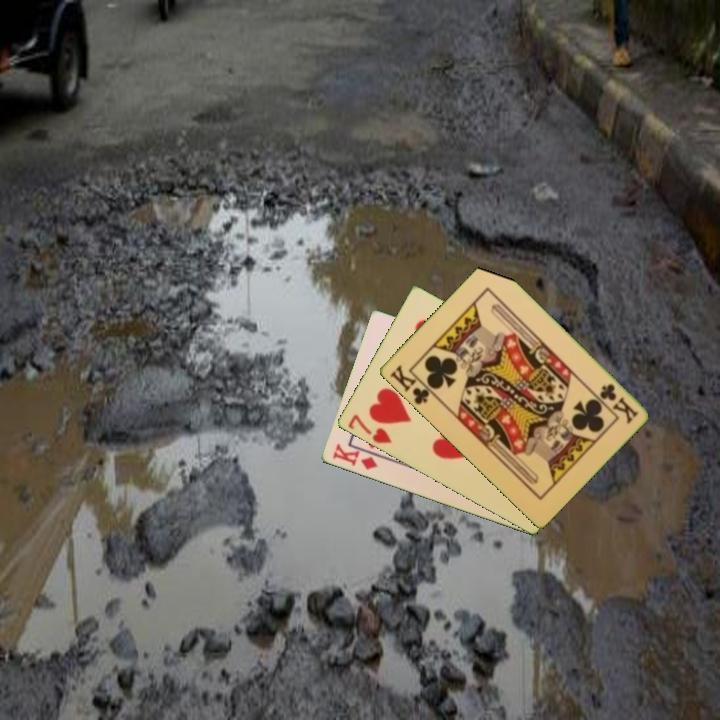7h: (344, 411, 394, 447)
Kc: (386, 361, 438, 408), (596, 380, 641, 427)
Kd: (328, 440, 380, 473)
